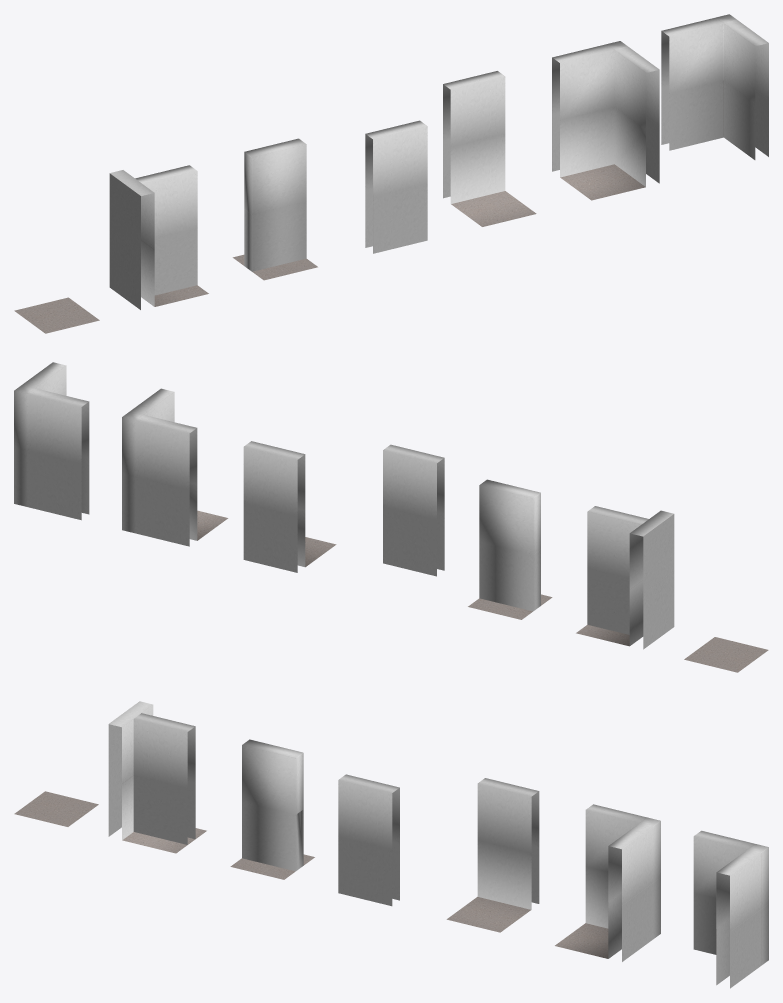
The model's file is LudusXRApartmentPieces.glb.
3 views of the same model, one above another, from view 1: azimuth 30°, elevation 25°; view 2: azimuth 150°, elevation 25°; view 3: azimuth 330°, elevation 25° (orthographic).
Parts seen in each view (by area): view 1: InnerCornerWall, OuterCornerWall, InsideWallFloorTCorner, CenterWallFloor, InsideWallFloor, OuterWallFloor, Floor; view 2: InsideWallFloorTCorner, InnerCornerWall, OuterCornerWall, InsideWallFloor, CenterWallFloor, OuterWallFloor, Floor; view 3: InsideWallFloorTCorner, InnerCornerWall, OuterCornerWall, CenterWallFloor, InsideWallFloor, OuterWallFloor, Floor.
Part boxes in pixels (box(x1,y1,x2,y2)): InnerCornerWall: box(552, 41, 659, 200); OuterCornerWall: box(661, 14, 768, 159); InsideWallFloorTCorner: box(109, 165, 208, 309); CenterWallFloor: box(443, 71, 536, 226); InsideWallFloor: box(232, 138, 317, 280); OuterWallFloor: box(365, 120, 427, 253); Floor: box(14, 297, 99, 333); InsideWallFloorTCorner: box(576, 506, 674, 649); InnerCornerWall: box(122, 388, 228, 546); OuterCornerWall: box(14, 362, 89, 520); InsideWallFloor: box(468, 479, 552, 619); CenterWallFloor: box(243, 441, 336, 572); OuterWallFloor: box(383, 444, 444, 576); Floor: box(684, 637, 768, 672); InsideWallFloorTCorner: box(108, 701, 206, 853); InnerCornerWall: box(555, 804, 660, 961); OuterCornerWall: box(693, 830, 768, 988); CenterWallFloor: box(446, 778, 539, 932); InsideWallFloor: box(230, 739, 314, 879); OuterWallFloor: box(338, 774, 399, 906); Floor: box(14, 791, 98, 826).
Bounding box in the file's own units: 13.25 × 2 × 1.25.
Materials: 1 (1 with a texture image).
